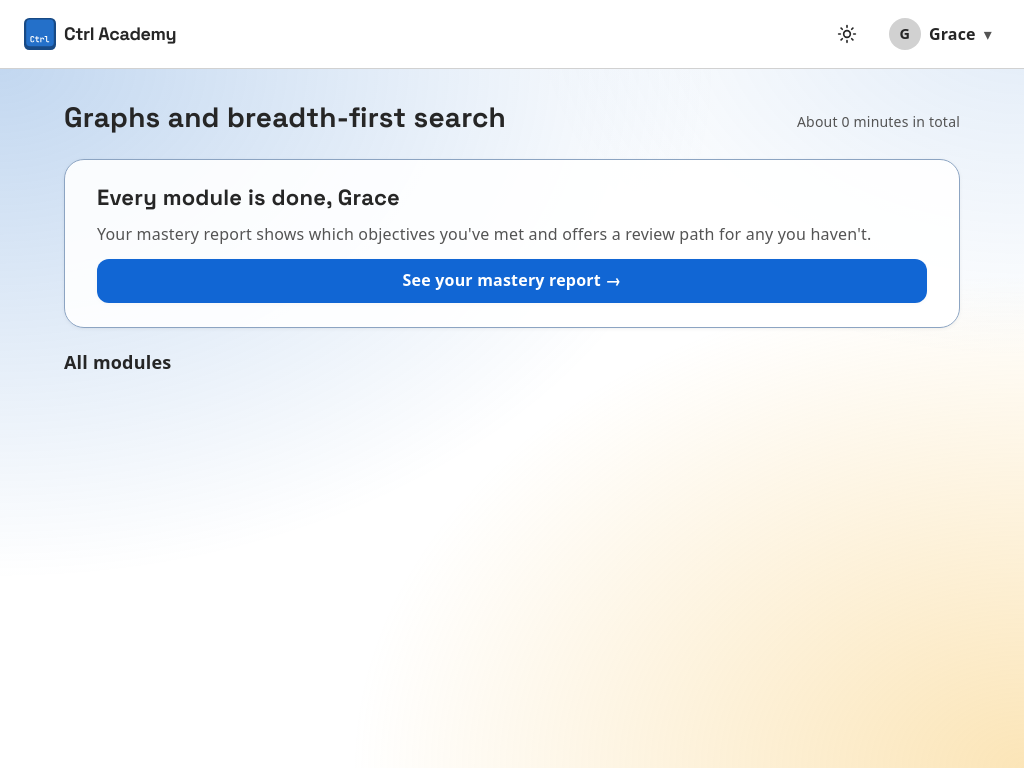
Scenario: staff portal › opens from the account menu and lists every setup area
Click the button named "your account" at point(940, 34), box [881,12,1000,56]
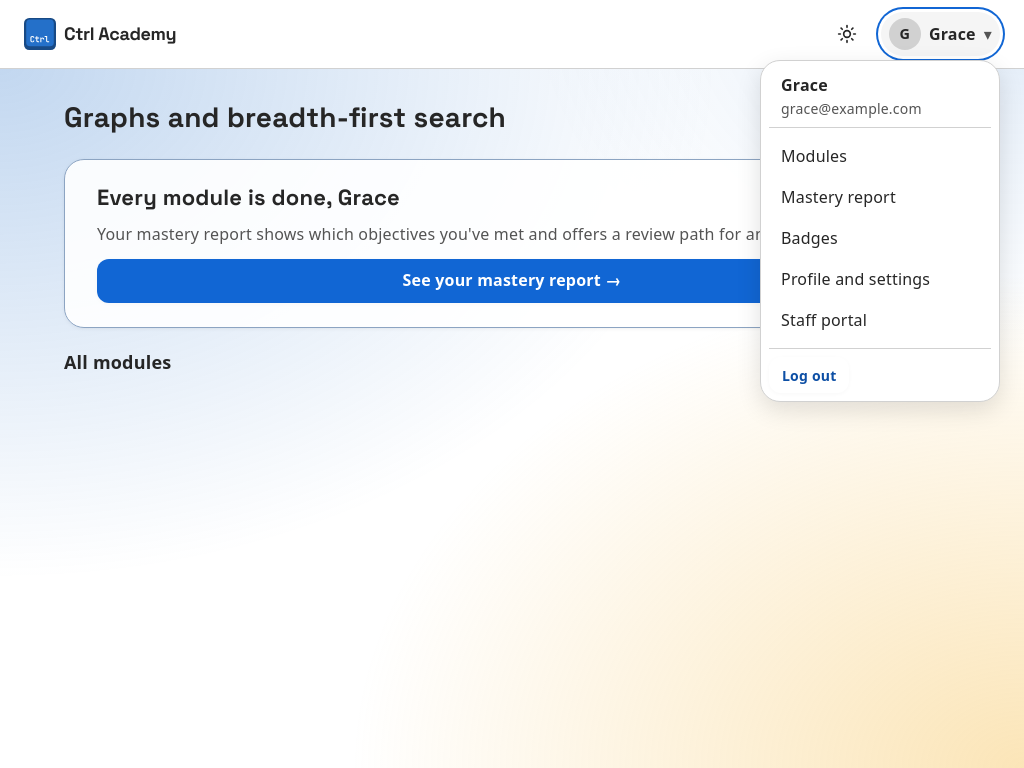
Click the link "Staff portal" at point(824, 320), box [781,309,867,331]
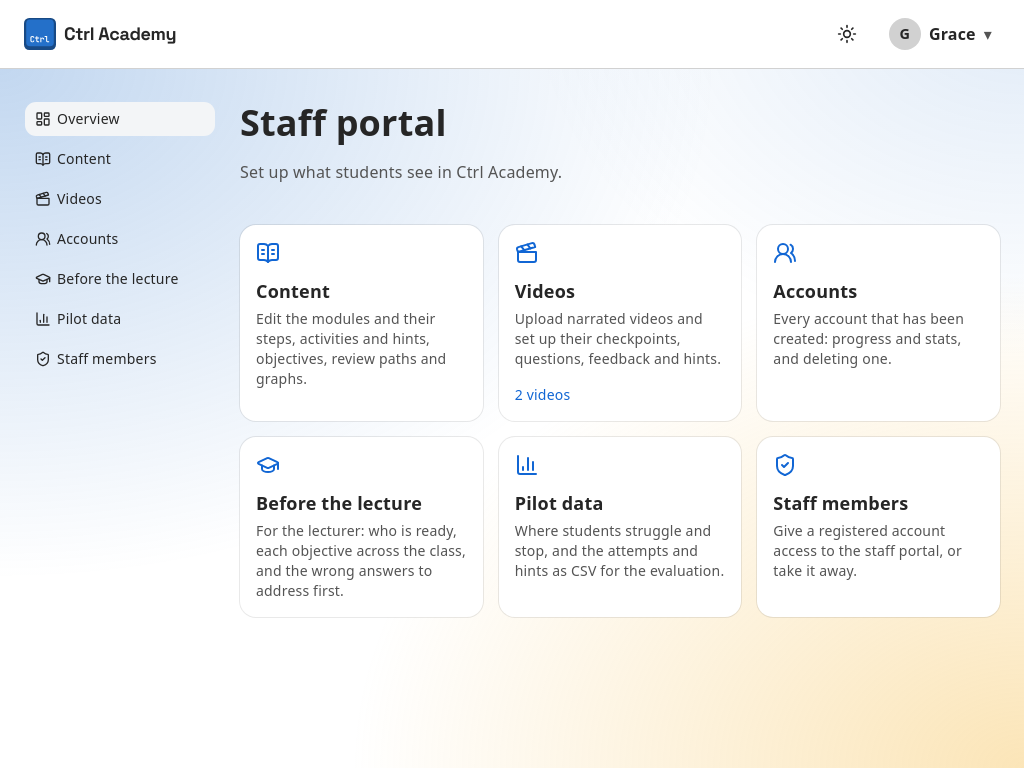
Check: the heading "Staff portal" is shown, box [240,98,447,147]
Check: the text "2 videos" is shown, box [515,385,570,404]
